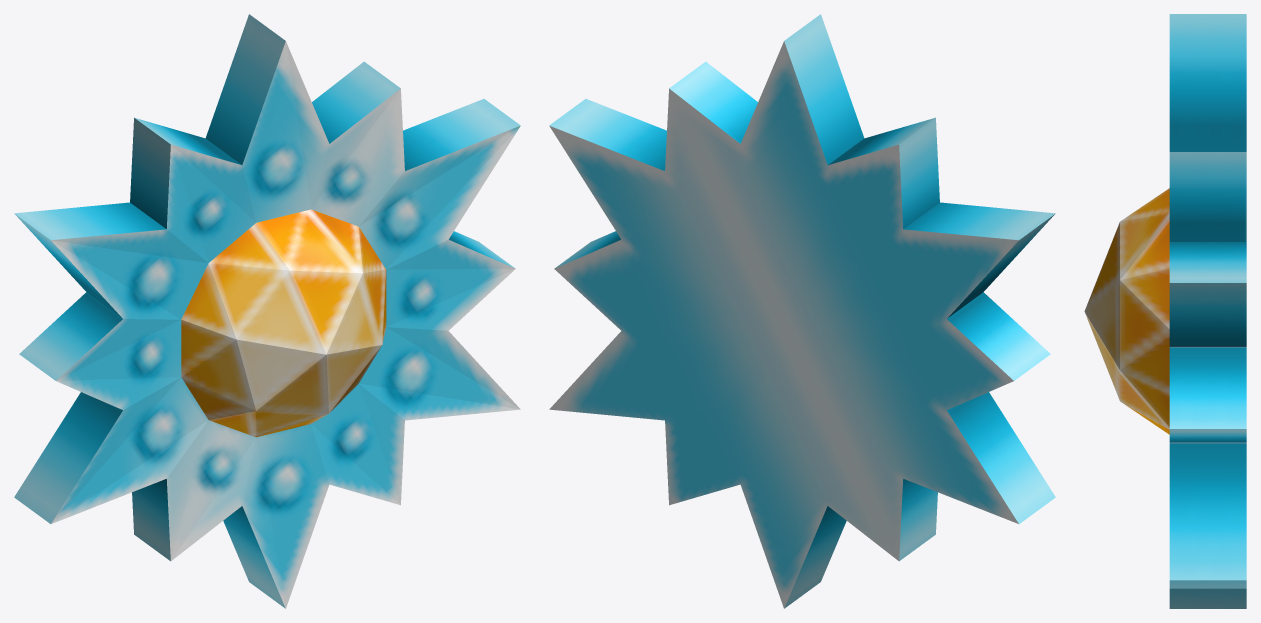
File: item_017.fbx
3 renders of one model, left to right at view 1: azimuth 30°, elevation 25°; view 2: azimuth 150°, elevation 25°; view 3: azimuth 270°, elevation 25°, orthographic. The views are drawn at different scales.
Parts seen in each view (by area): view 1: item017; view 2: item017; view 3: item017.
Boxes of the visible parts, x1,y1,x2,y2 form: item017: [14, 14, 520, 608]; item017: [549, 14, 1055, 608]; item017: [1084, 14, 1246, 608].
Size of the model in its own units: 0.2545 by 0.2939 by 0.0726.
